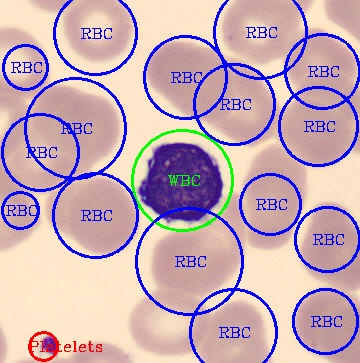Platelets: (34, 329, 63, 357)
RBC: (243, 143, 309, 253), (209, 54, 281, 148), (60, 174, 141, 257), (148, 224, 235, 296), (127, 285, 210, 357), (143, 39, 221, 114), (7, 129, 96, 192), (219, 0, 302, 67), (298, 200, 358, 291), (277, 96, 352, 168), (291, 285, 358, 360), (283, 25, 358, 91), (61, 0, 135, 65), (199, 296, 272, 361), (55, 92, 121, 161), (199, 189, 246, 273), (0, 23, 50, 100), (0, 162, 41, 254), (294, 70, 358, 124)
WBC: (137, 138, 227, 224)
